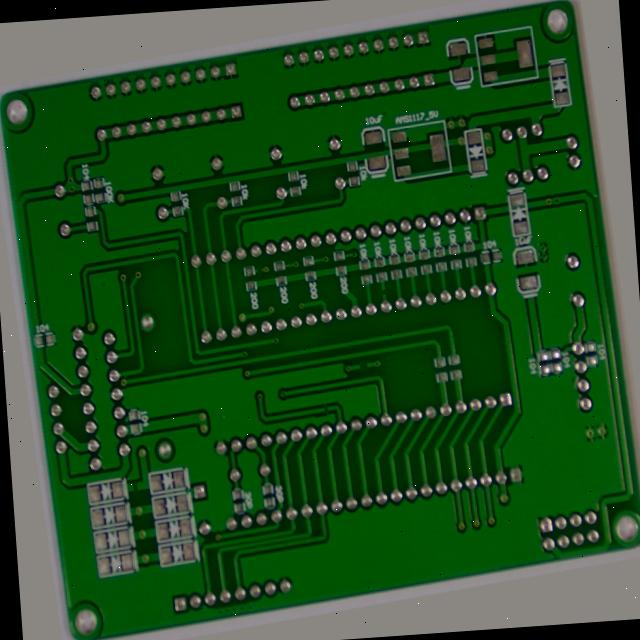open_circuit: (105, 470, 117, 488), (354, 367, 369, 381), (313, 412, 326, 424), (253, 250, 263, 263), (384, 290, 394, 302)
